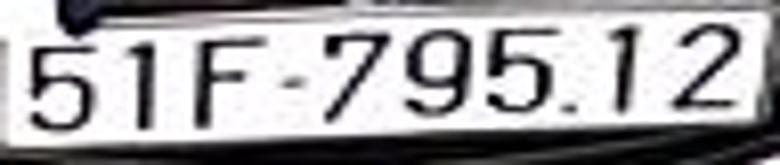-: (276, 72, 307, 95)
.: (561, 97, 576, 119)
0: (402, 29, 474, 119)
1: (121, 38, 157, 133), (605, 23, 640, 114)
2: (671, 21, 742, 114)
5: (22, 41, 100, 138), (485, 22, 557, 114)
7: (315, 27, 391, 123)
F: (195, 32, 269, 129)
